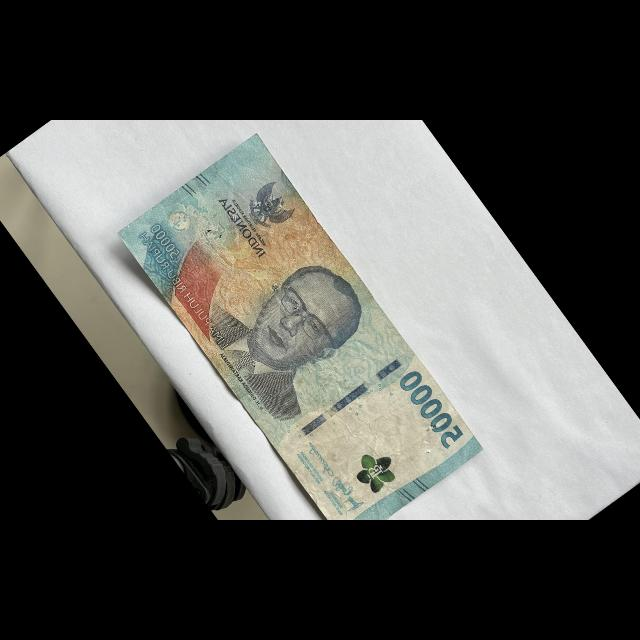Palsu-50k: (113, 129, 487, 553)
Tinta-Palsu-50k: (347, 443, 403, 498)
